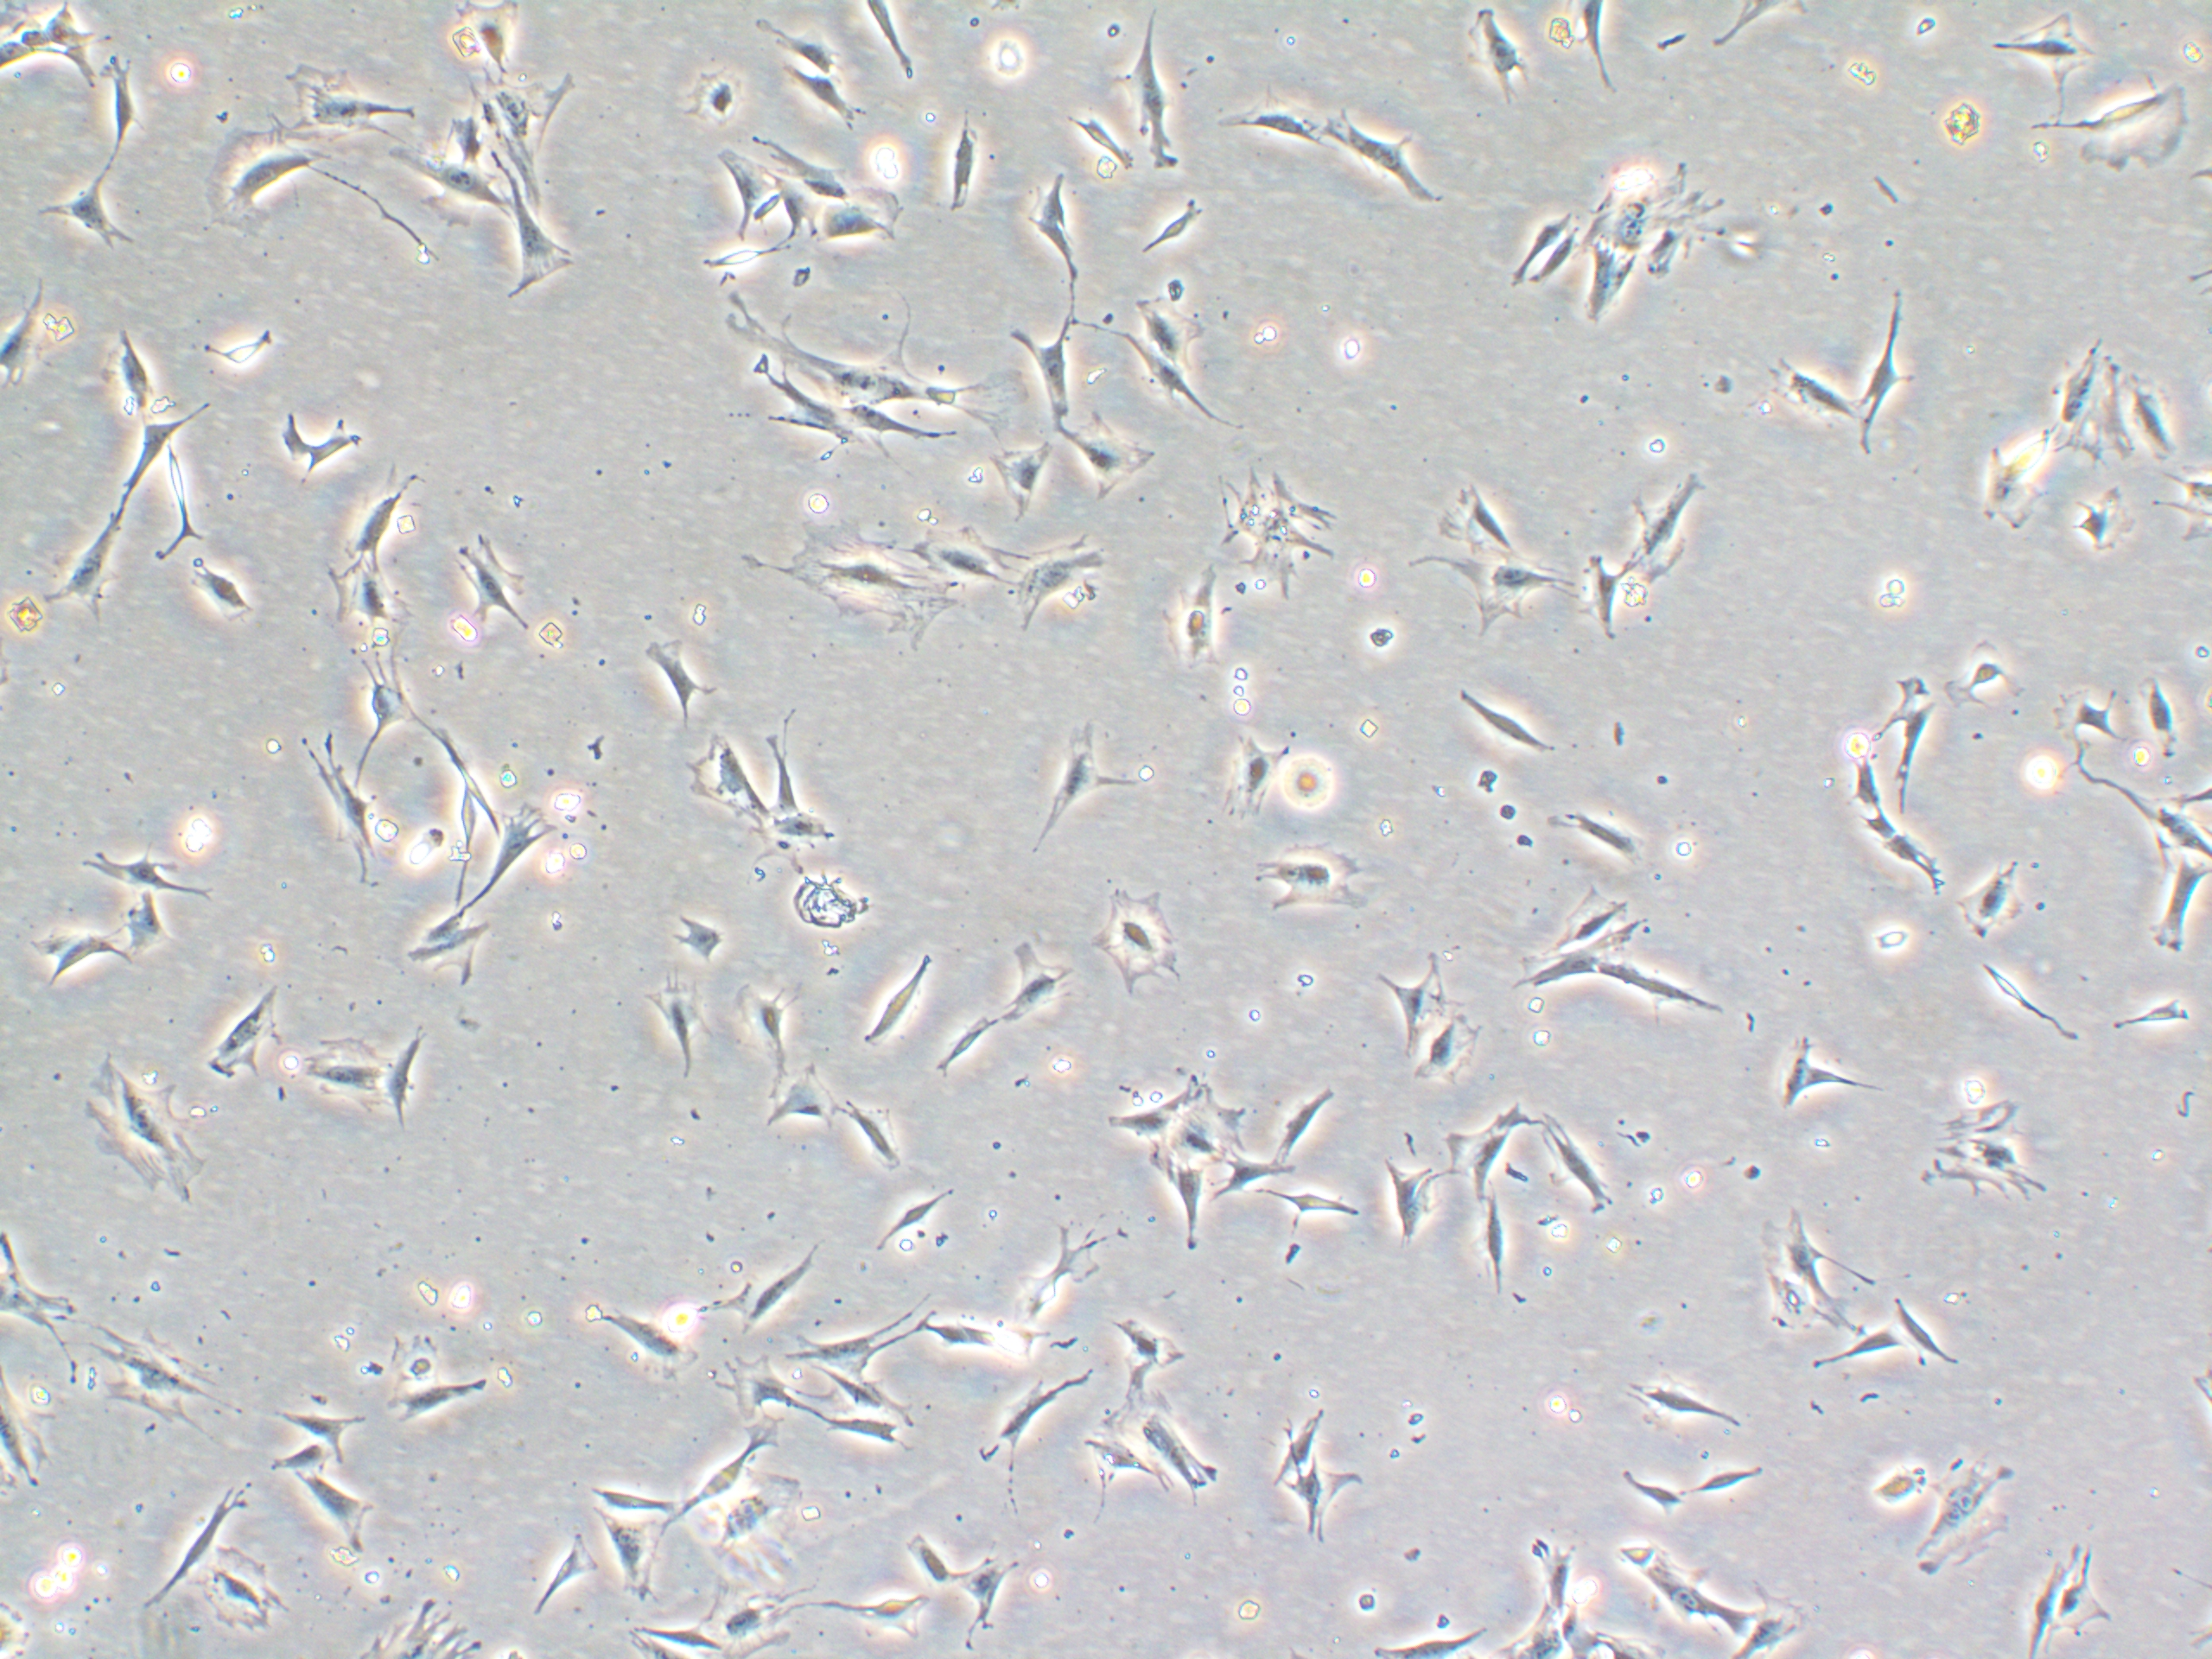small: (862, 1173, 968, 1258), (185, 305, 301, 376), (1791, 1323, 1919, 1384), (2059, 484, 2146, 570), (1886, 1293, 1975, 1368), (1674, 1452, 1796, 1502), (672, 63, 752, 136), (2088, 990, 2205, 1037), (887, 1521, 958, 1595), (1273, 741, 1339, 817), (1606, 1467, 1696, 1523), (374, 1319, 442, 1391), (664, 899, 732, 964)
spread: (749, 505, 963, 667), (1926, 1084, 2080, 1244), (61, 1054, 216, 1209), (451, 59, 580, 209), (1402, 540, 1583, 647), (664, 1469, 813, 1595), (1892, 1453, 2026, 1586), (190, 117, 331, 235), (1216, 465, 1327, 612), (2024, 328, 2128, 477), (1073, 884, 1204, 1002), (82, 1321, 218, 1429), (282, 56, 428, 152), (1235, 831, 1381, 925), (272, 1026, 397, 1134), (1580, 162, 1712, 251), (1007, 537, 1116, 638), (685, 1575, 812, 1659), (317, 551, 420, 652), (909, 519, 1026, 601), (1214, 721, 1289, 826), (1162, 1093, 1256, 1171)
